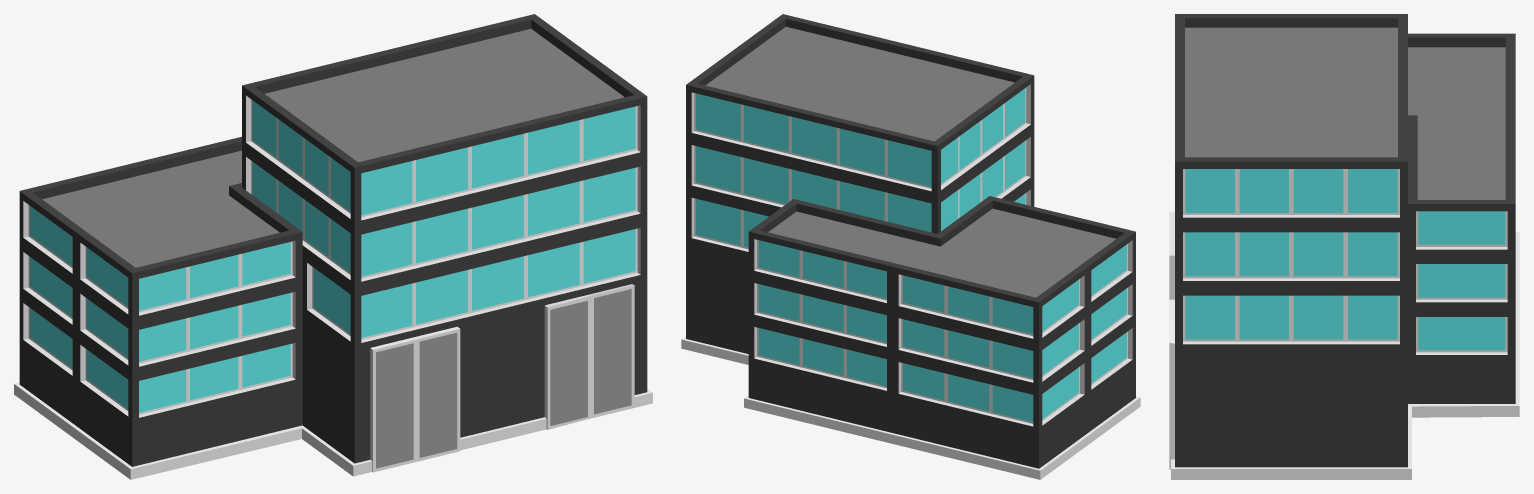
Rendered from SM_House_20_04.FBX.
3 views of the same model, side by side, from view 1: azimuth 30°, elevation 25°; view 2: azimuth 150°, elevation 25°; view 3: azimuth 270°, elevation 25° (orthographic). The views are drawn at different scales.
Parts seen in each view (by area): view 1: SM_House_20_04; view 2: SM_House_20_04; view 3: SM_House_20_04.
Boxes of the visible parts, bbox=[...] form: SM_House_20_04: bbox=[14, 14, 652, 479]; SM_House_20_04: bbox=[681, 14, 1140, 479]; SM_House_20_04: bbox=[1169, 14, 1519, 479].
Bounding box in the file's own units: 9.63 × 6 × 6.02.
Materials: 1 (1 with a texture image).
